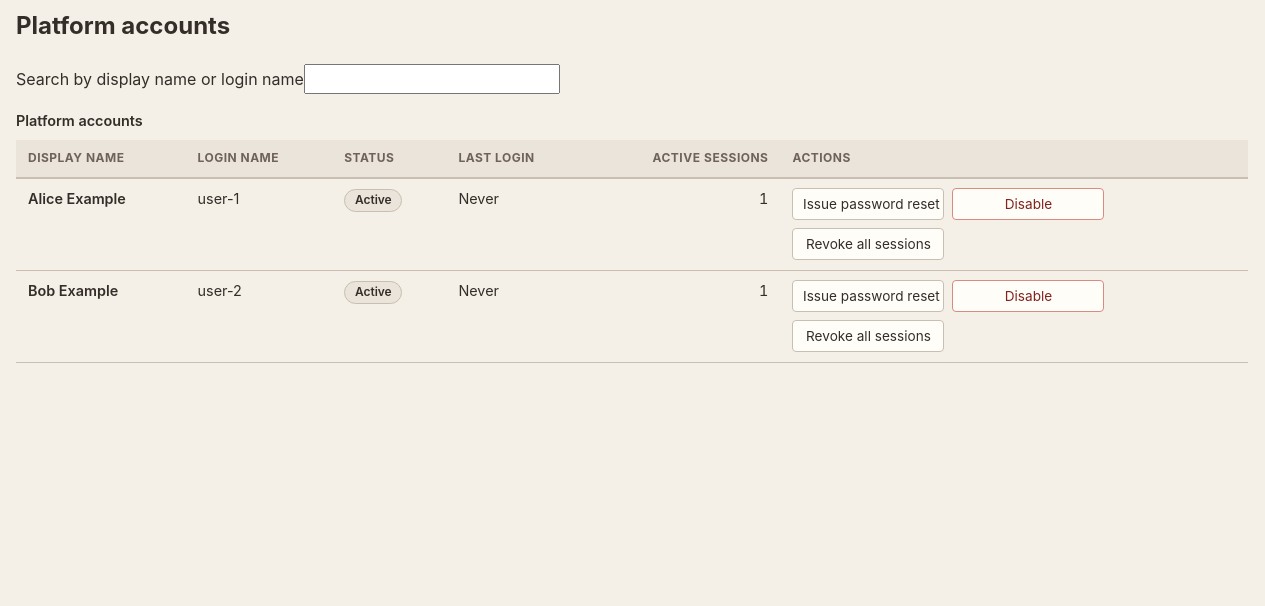
it: AdminAccountsPage password-reset link › survives changing the search query
Expected: the text "Alice Example" is shown, [28,190,126,207]
Click the button "Issue password reset" in the row of "Alice Example": (868, 204) [792,188,944,220]
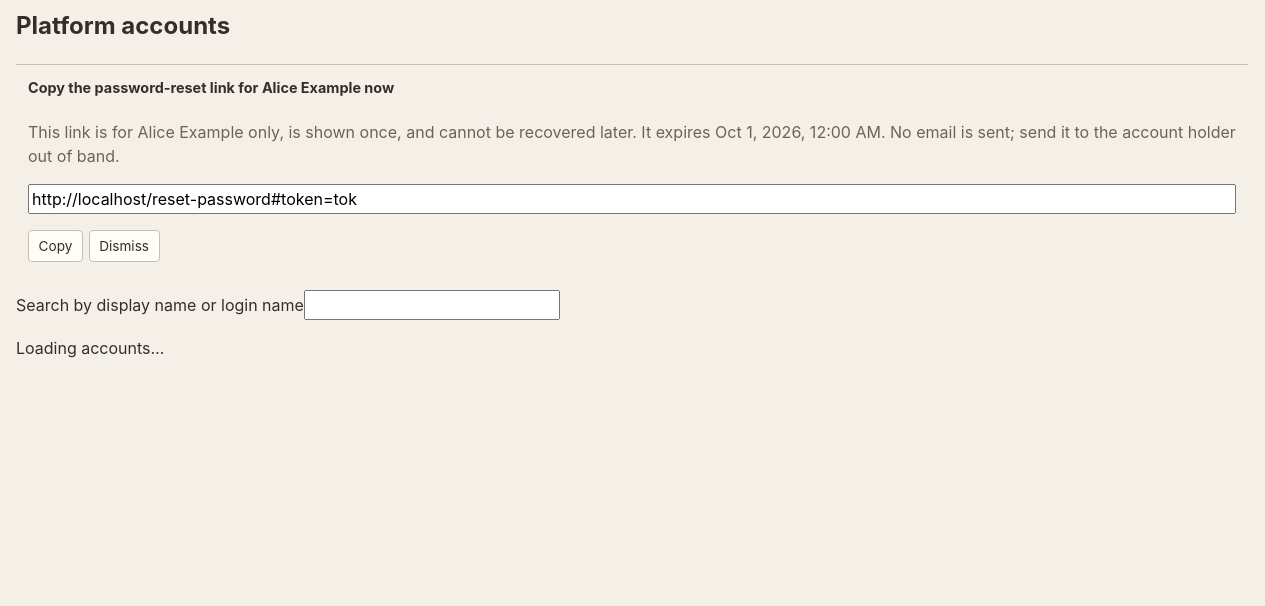
Result: the field named "Password-reset link" is shown at [28,184,1236,214]
In the field labelled "Search by display name or login name": (432, 305) [304,290,560,320], type "bob"
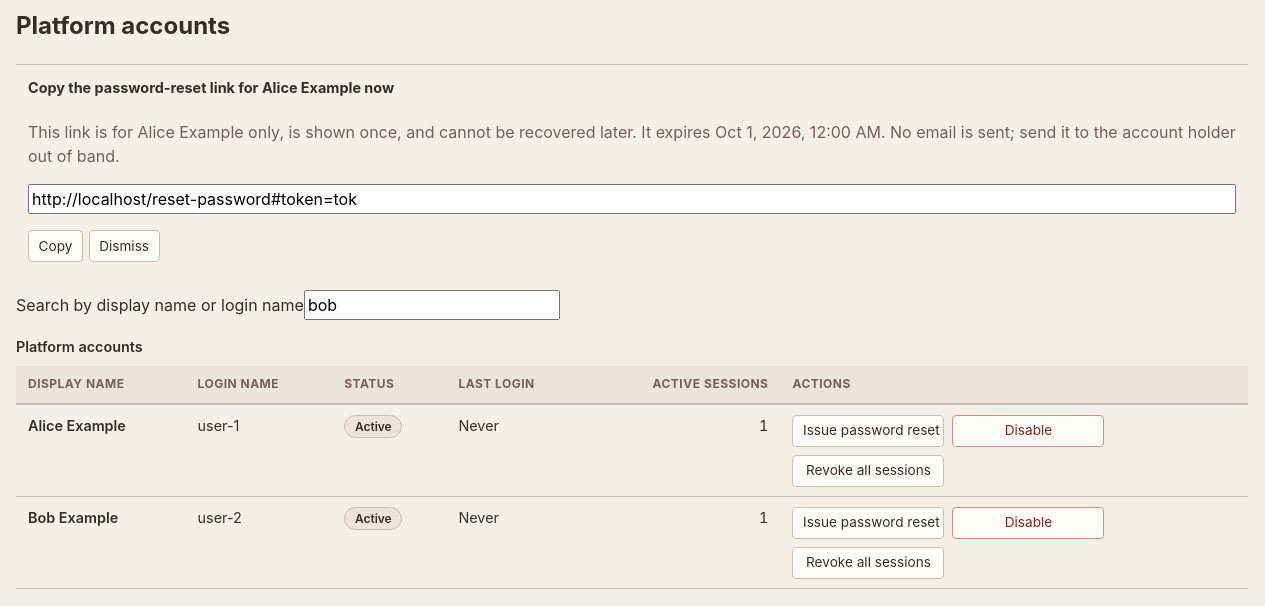
Result: the field named "Password-reset link" is shown at [28,184,1236,214]
Result: the text "Alice Example" is shown at [28,416,126,434]
